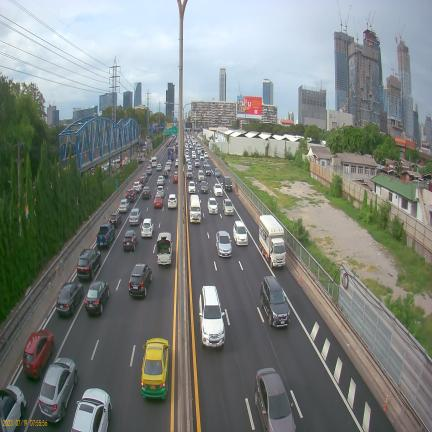bus: (168, 146, 175, 160)
car: (38, 358, 78, 422), (22, 329, 54, 379), (199, 286, 225, 347), (260, 276, 290, 327), (56, 280, 83, 316), (84, 281, 109, 314), (129, 264, 152, 297), (77, 249, 101, 280), (216, 231, 232, 257), (233, 220, 248, 245), (123, 230, 137, 251), (141, 218, 154, 238), (129, 208, 142, 225), (109, 210, 121, 228), (223, 199, 234, 215), (208, 197, 218, 214), (118, 199, 130, 213), (126, 188, 137, 201), (168, 194, 177, 209), (213, 183, 223, 196), (142, 186, 151, 199), (154, 194, 162, 208), (139, 173, 147, 186), (156, 185, 164, 198), (188, 181, 196, 194), (133, 181, 142, 192), (200, 181, 208, 193), (157, 175, 165, 185), (198, 169, 204, 182), (205, 164, 211, 176), (165, 160, 171, 171), (166, 159, 172, 170), (173, 171, 178, 183), (186, 170, 193, 178), (146, 165, 152, 174), (214, 168, 220, 177), (163, 168, 168, 178), (156, 164, 162, 171), (187, 162, 192, 170), (195, 159, 200, 167), (185, 155, 190, 163), (200, 153, 205, 160), (192, 151, 196, 159), (204, 152, 208, 159), (175, 158, 178, 167), (133, 210, 133, 211)
pickup: (96, 224, 115, 248)
taxi: (141, 338, 170, 399)
truck: (259, 215, 286, 268), (156, 232, 172, 265)
van: (189, 195, 201, 222), (223, 176, 232, 191), (151, 157, 157, 167)
